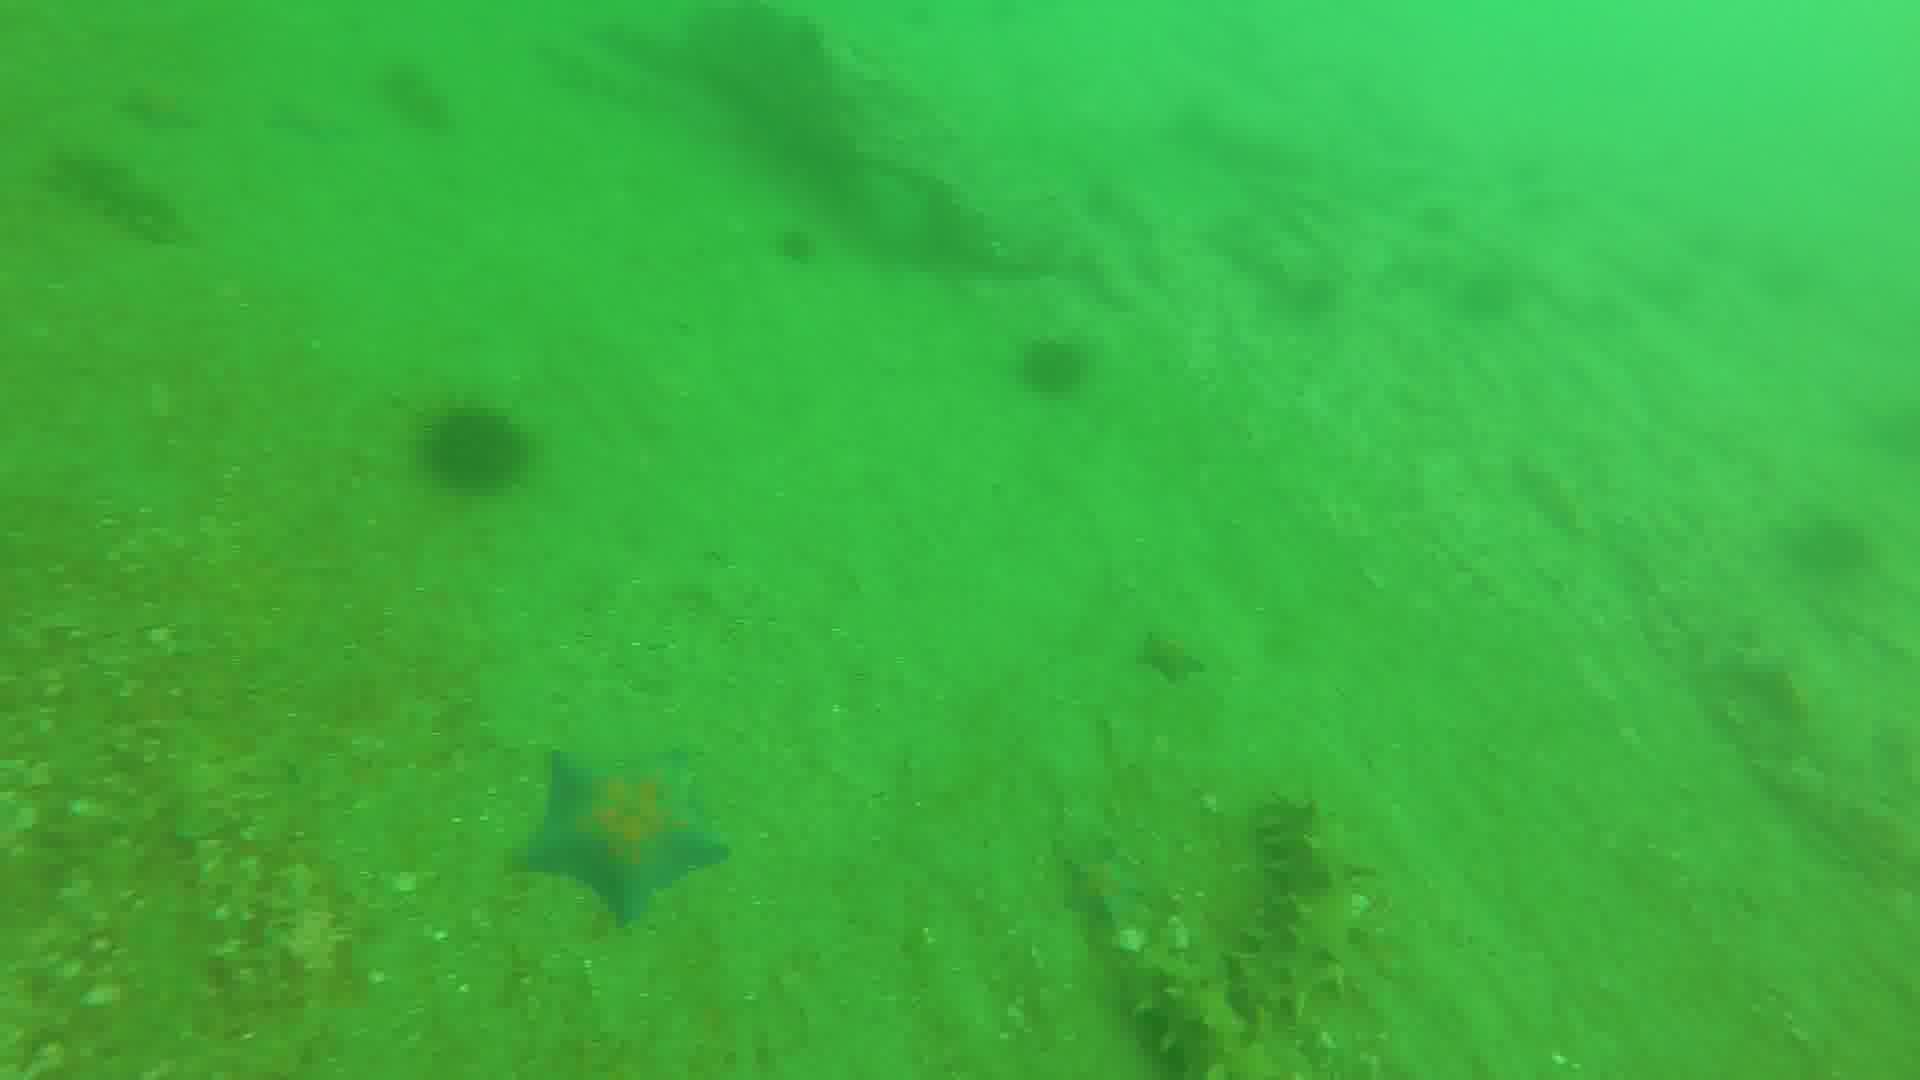echinus: (415, 400, 542, 498), (1018, 331, 1093, 404), (771, 220, 829, 270)
holothurian: (1226, 804, 1366, 1019), (42, 144, 196, 251), (1137, 965, 1251, 1080)
starfish: (509, 749, 731, 928), (1131, 622, 1215, 690)
